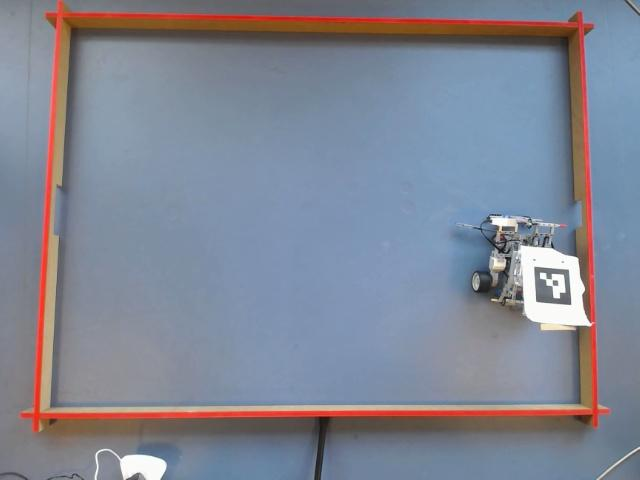ev3: (456, 214, 590, 328)
